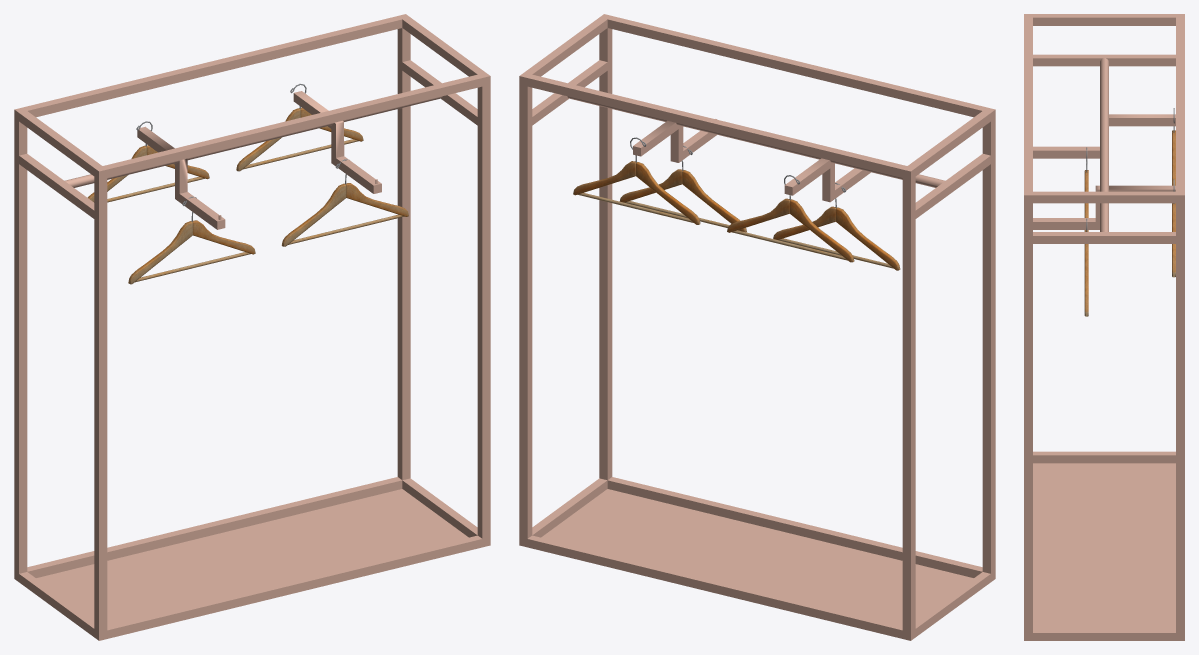
3 views of the same model, side by side, from view 1: azimuth 30°, elevation 25°; view 2: azimuth 150°, elevation 25°; view 3: azimuth 270°, elevation 25° (orthographic). The views are drawn at different scales.
Visible parts, largest first — view 1: Mesh1, hang1.001, hang1.003, hang1.002, hang1; view 2: Mesh1, hang1.002, hang1, hang1.001, hang1.003; view 3: Mesh1, hang1.003, hang1.002, hang1.
Part boxes in pixels (x1,y1,x2,y2): Mesh1: [14, 14, 490, 640]; hang1.001: [128, 196, 255, 284]; hang1.003: [281, 159, 408, 246]; hang1.002: [236, 83, 363, 171]; hang1: [87, 121, 209, 202]; Mesh1: [519, 14, 995, 640]; hang1.002: [573, 137, 700, 224]; hang1: [727, 175, 854, 262]; hang1.001: [773, 183, 900, 270]; hang1.003: [619, 146, 746, 232]; Mesh1: [1024, 14, 1184, 640]; hang1.003: [1084, 218, 1088, 316]; hang1.002: [1172, 179, 1175, 277]; hang1: [1172, 108, 1175, 185].
Size of the model in its own units: 48 by 55 by 18.
5 materials, 4 textured.
